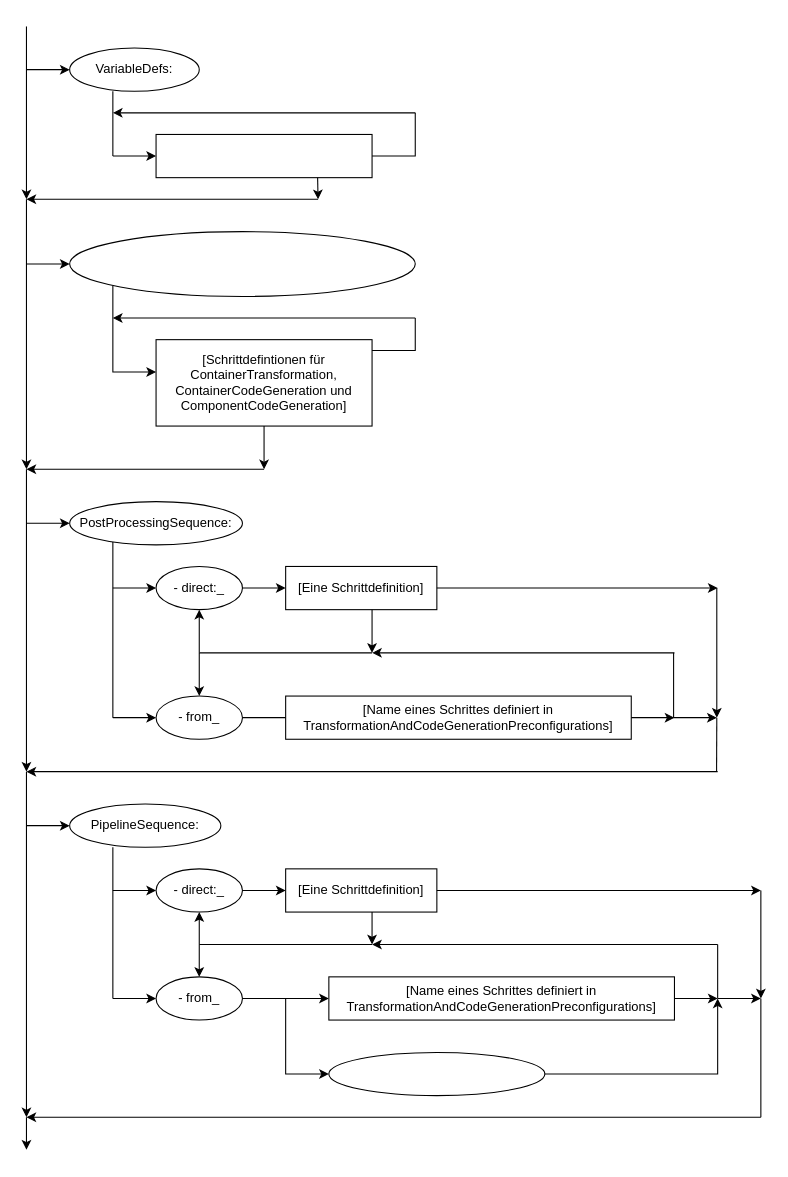
Image size: 788x1177. Some labels were removed from this diagram. The centre of each missing label's shape, as x and y in pixels:
[Variablendefinitionen mit Werten und Typen]: the point at 263,155
PostProcessingSequence:_all: the point at 436,1073
TransformationAndCodeGenerationPreconfigurations:: the point at 242,263
